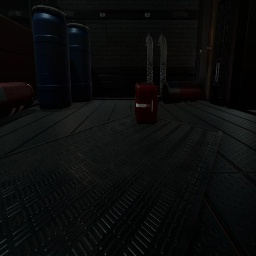FirstAidBox ,: (135, 83, 161, 125)
NitrogenTank ,: (0, 82, 35, 119), (161, 81, 203, 104)
